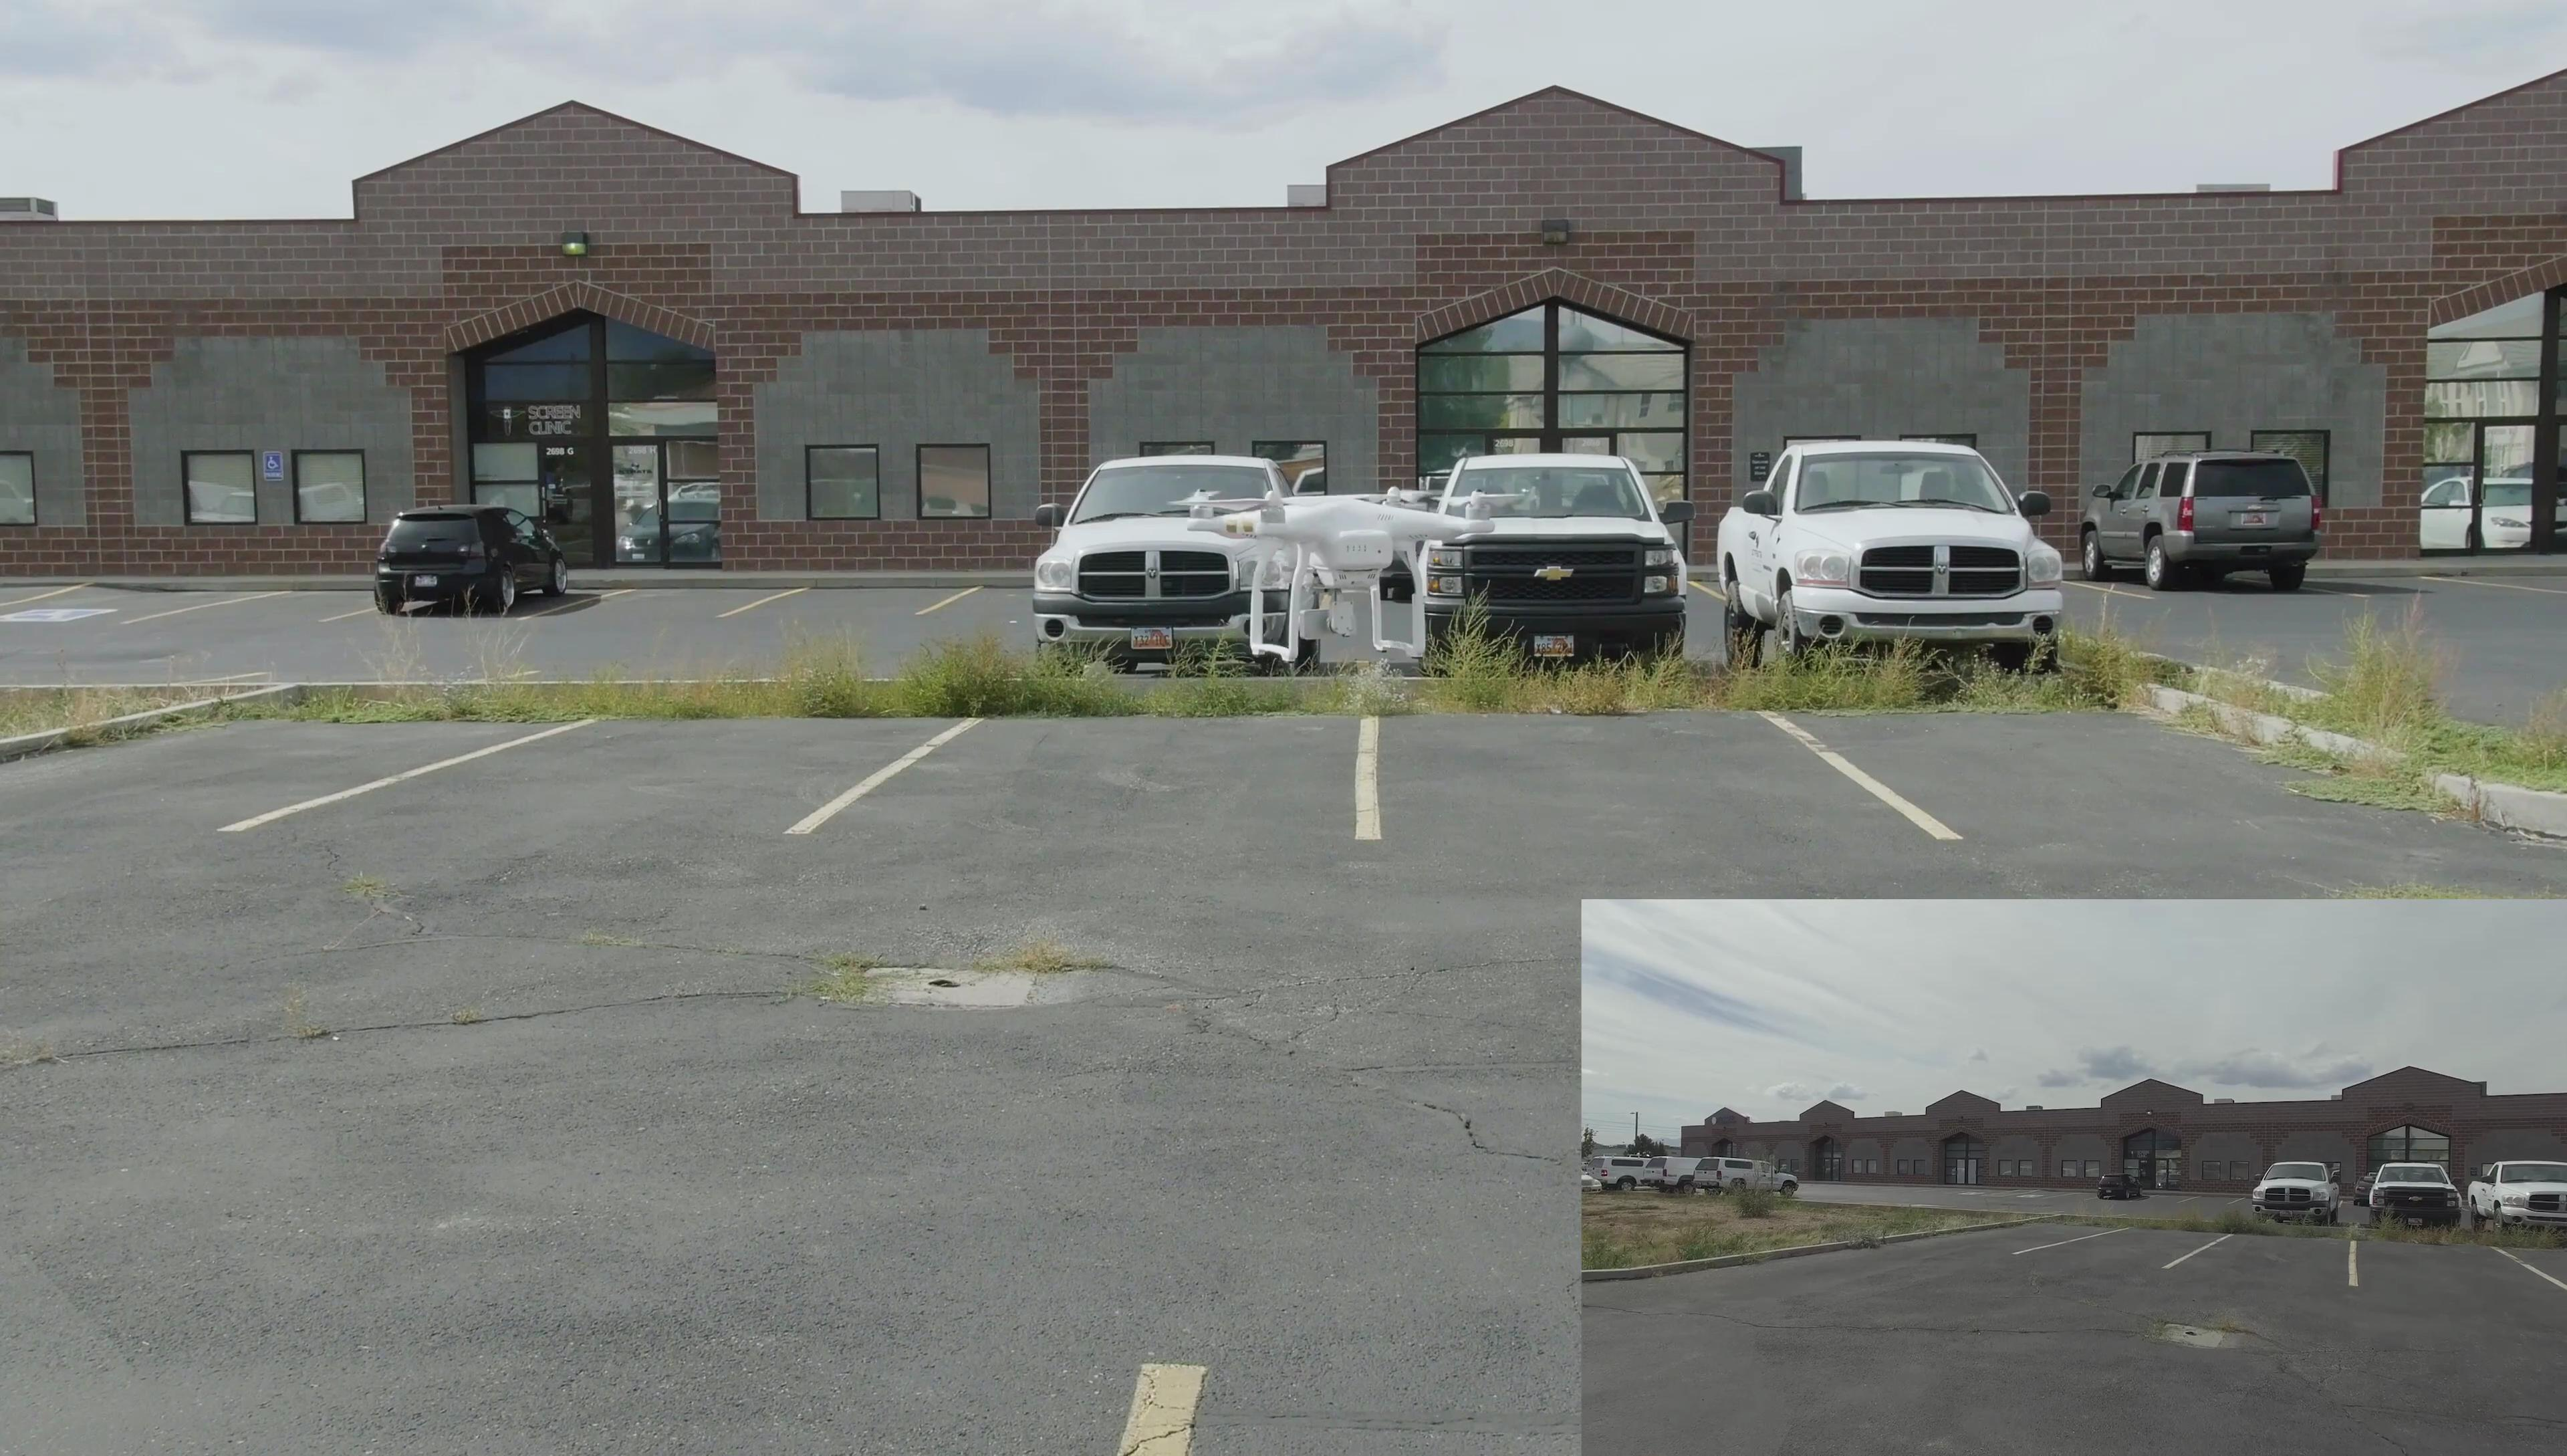drone: (1178, 479, 1507, 661)
